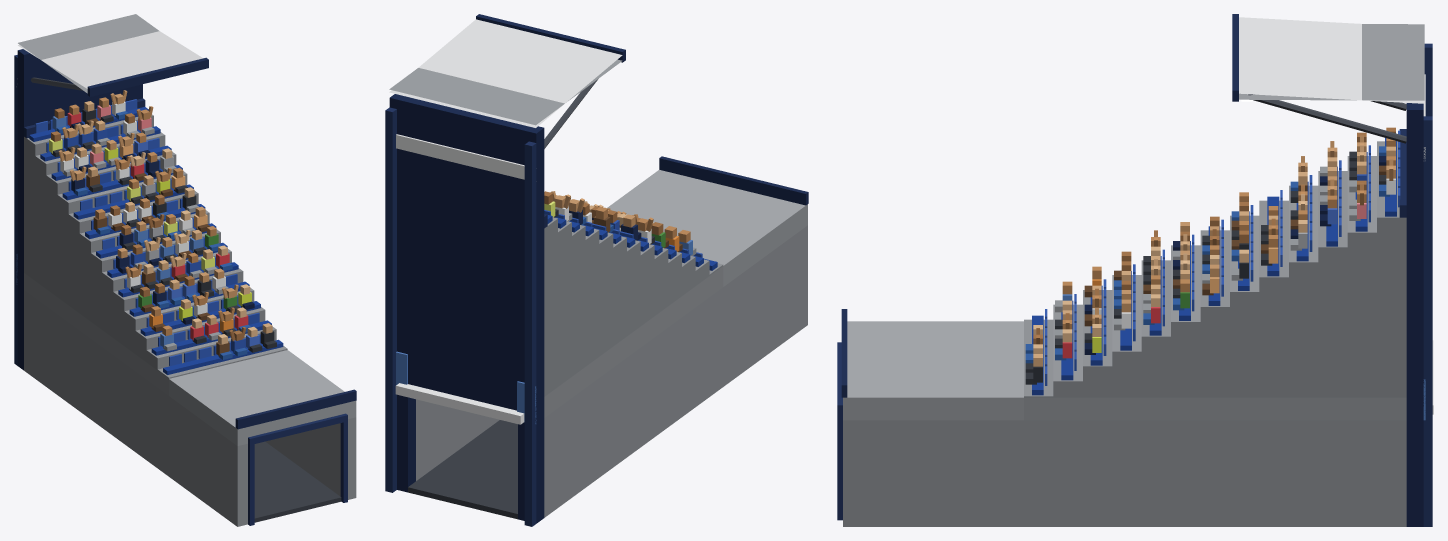
File: StandPortal.glb
The picture shows the model from 3 angles, left to right: view 1: azimuth 30°, elevation 25°; view 2: azimuth 150°, elevation 25°; view 3: azimuth 270°, elevation 25°; orthographic projection. The views are drawn at different scales.
Visible parts, largest first — view 1: StandPortal; view 2: StandPortal; view 3: StandPortal.
Boxes of the visible parts, left/top/right/bottom form: StandPortal: left=14, top=14, right=356, bottom=526; StandPortal: left=385, top=14, right=808, bottom=526; StandPortal: left=837, top=14, right=1433, bottom=526.
Size of the model in its own units: 16 by 42.55 by 52.7.
Materials: 3 (1 with a texture image).
